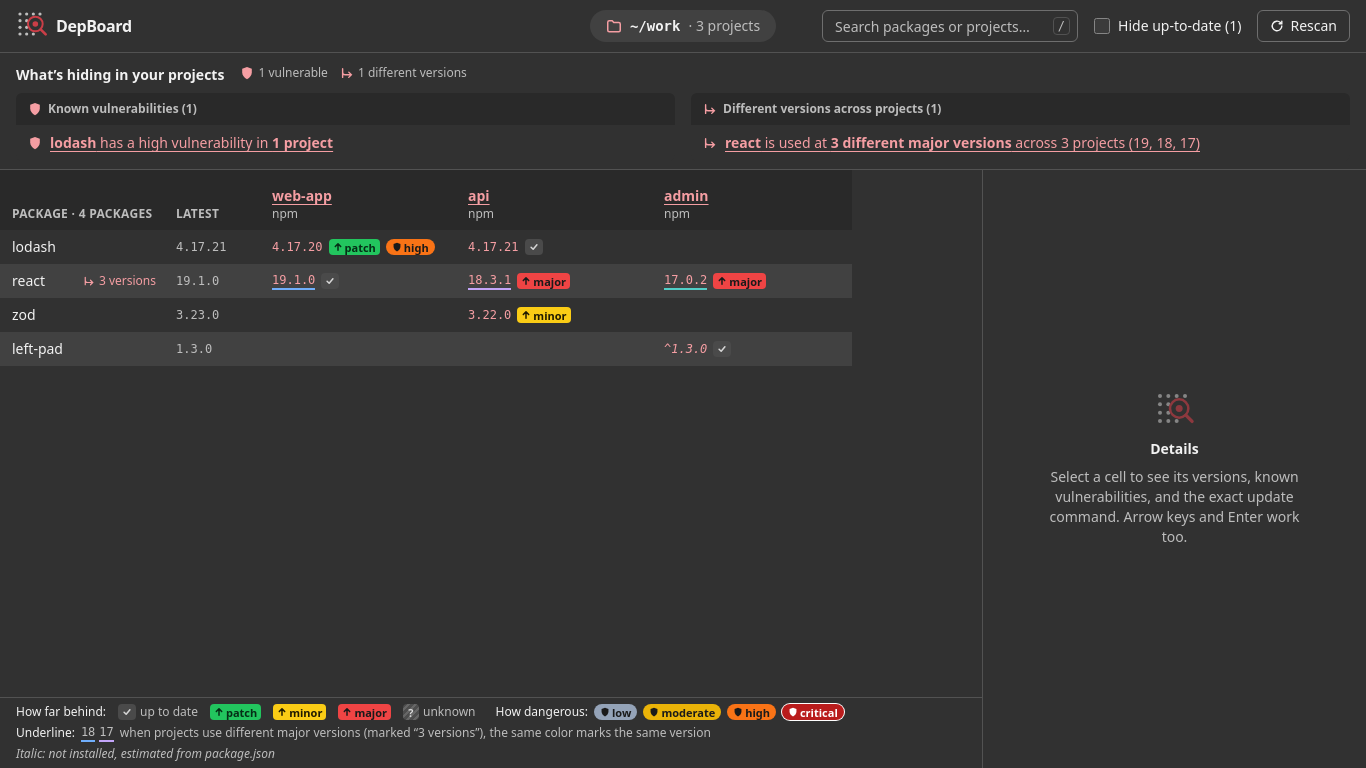
it: updating one package in one project › offers no update for a package that is already up to date
The image size is (1366, 768).
Click the cell named "react in web-app" at (306, 281), box [272,272,339,290]
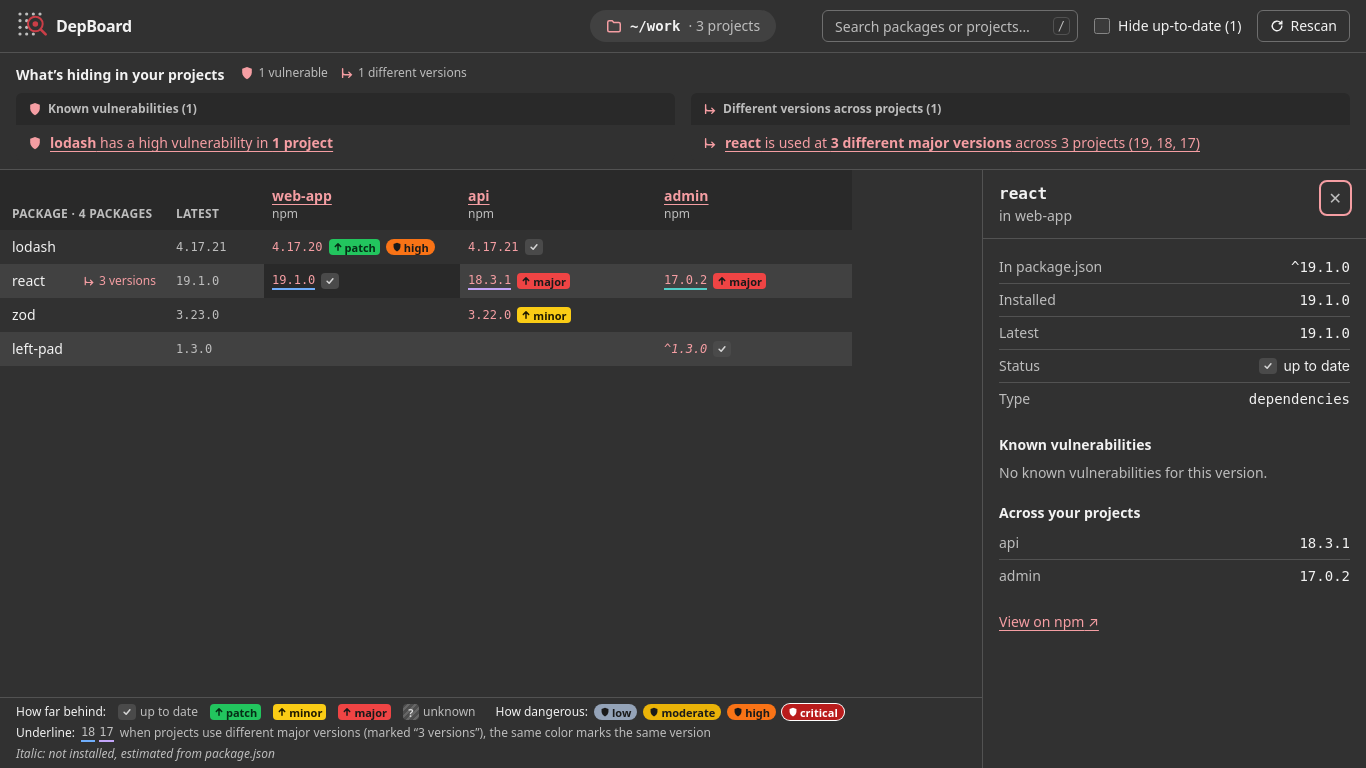
Check: the text "update" is gone
